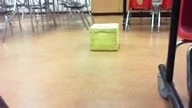cube: (89, 24, 118, 51)
